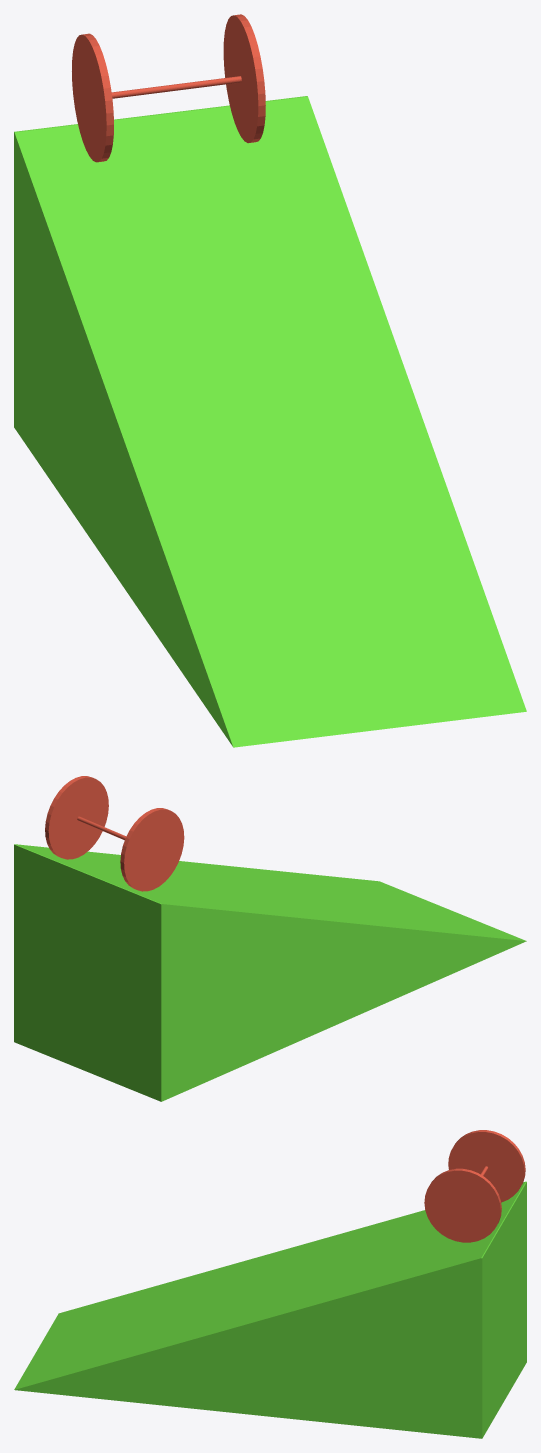
Rendered from eje.glb.
3 views of the same model, one above another, from view 1: azimuth 30°, elevation 25°; view 2: azimuth 150°, elevation 25°; view 3: azimuth 270°, elevation 25° (orthographic). The views are drawn at different scales.
Visible parts, largest first — view 1: Cube.001, Cylinder.001; view 2: Cube.001, Cylinder.001; view 3: Cube.001, Cylinder.001.
Part boxes in pixels (x1,y1,x2,y2): Cube.001: (14,96,526,747); Cylinder.001: (72,14,265,162); Cube.001: (14,844,526,1101); Cylinder.001: (45,776,184,891); Cube.001: (14,1181,526,1438); Cylinder.001: (424,1130,525,1242).
Bounding box in the file's own units: 15.05 × 13.73 × 26.01.
